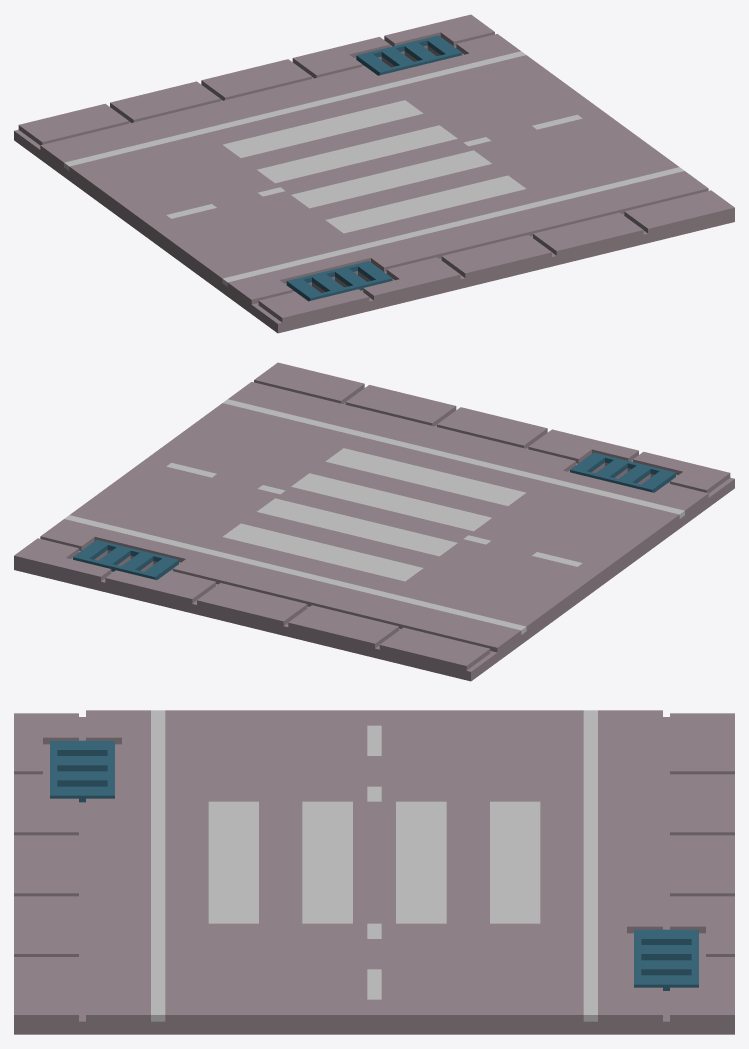
Rendered from Background_A_load_02.FBX.
3 renders of one model, top to bottom at view 1: azimuth 30°, elevation 25°; view 2: azimuth 150°, elevation 25°; view 3: azimuth 270°, elevation 25°, orthographic. The views are drawn at different scales.
Visible parts, largest first — view 1: Load_A-33; view 2: Load_A-33; view 3: Load_A-33.
Part boxes in pixels (left/top/right/bottom): Load_A-33: left=14, top=14, right=734, bottom=333; Load_A-33: left=14, top=362, right=734, bottom=681; Load_A-33: left=14, top=710, right=734, bottom=1034.
Bounding box in the file's own units: 10 × 0.3 × 10.
Materials: 1 (1 with a texture image).
